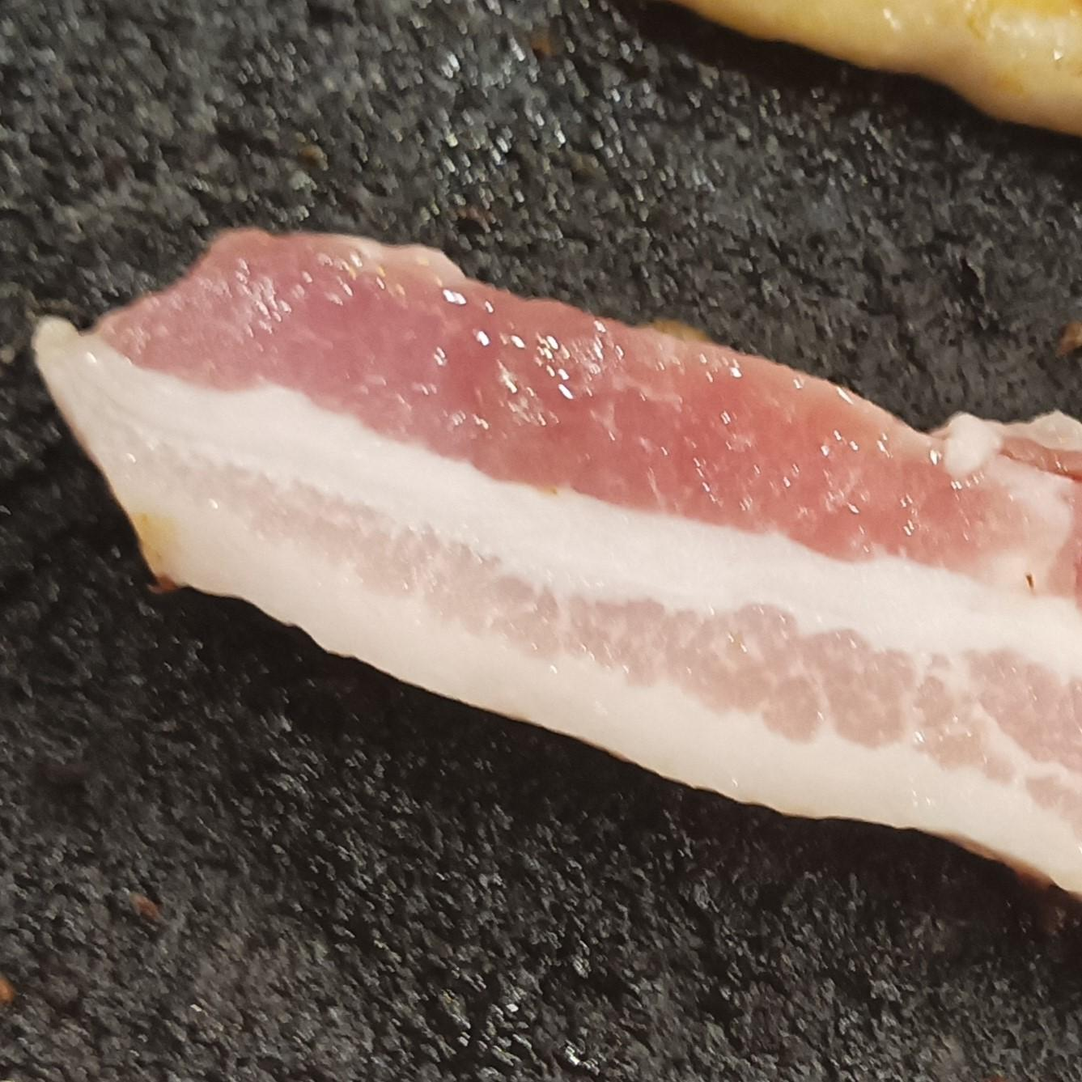Undercooked: (33, 229, 1081, 906)
